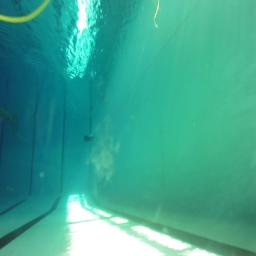Full: (84, 134, 94, 141)
